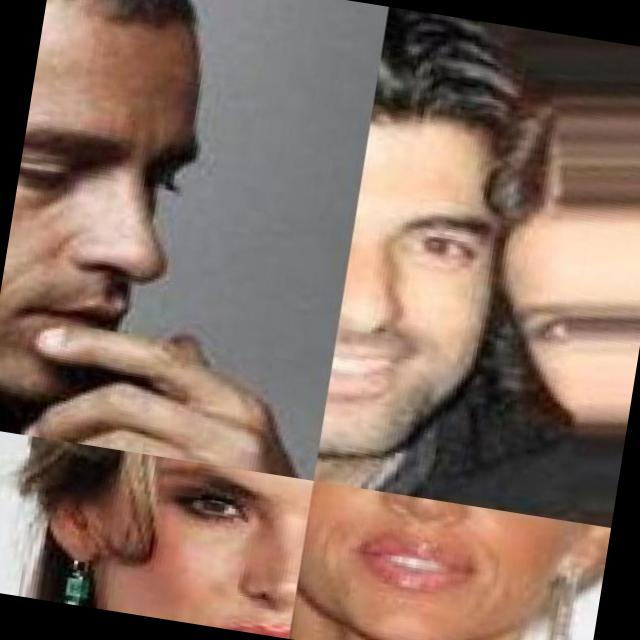bareface: (324, 47, 538, 474)
